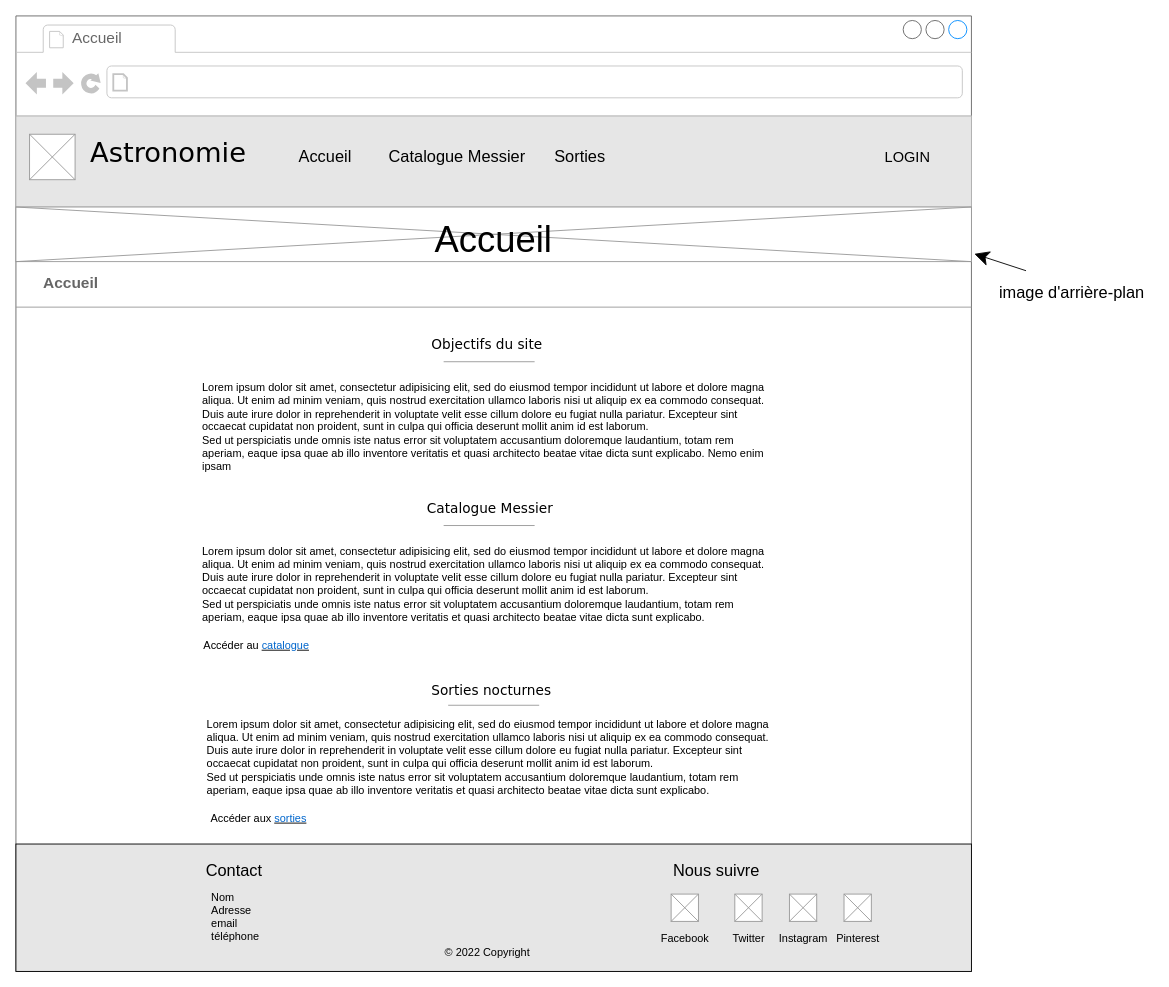
Image size: 1169x987. Some labels were removed from this diagram. Each missing label, with the centre of its shape:
logo: point 52,156
url: point 247,82
